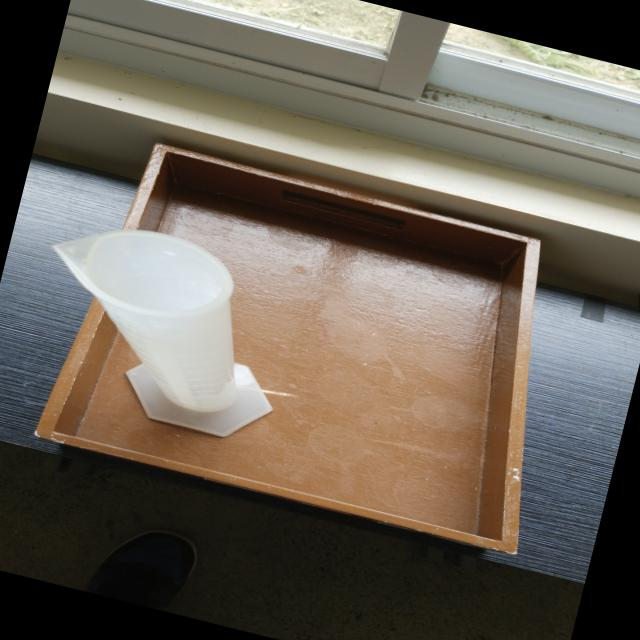graduated_cylinder: (11, 204, 312, 452)
